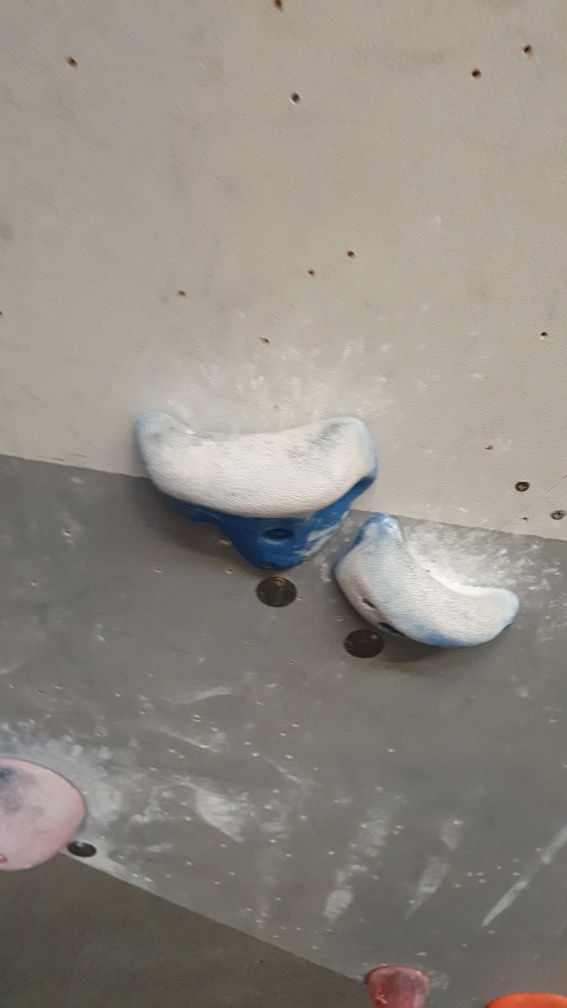Hand Start: (251, 568, 303, 615), (342, 622, 388, 663), (63, 829, 98, 868)
Jug: (128, 403, 381, 574), (334, 510, 516, 651)
Sloper: (1, 761, 94, 879), (353, 957, 441, 1008)
